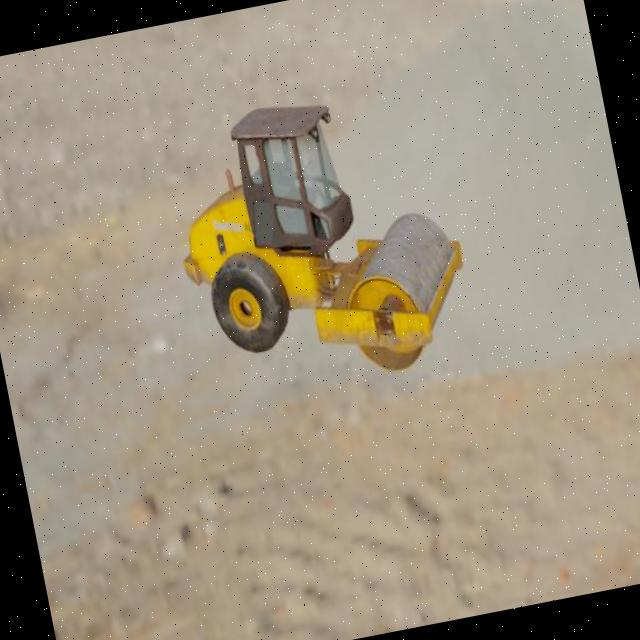Roller: (156, 74, 482, 409)
